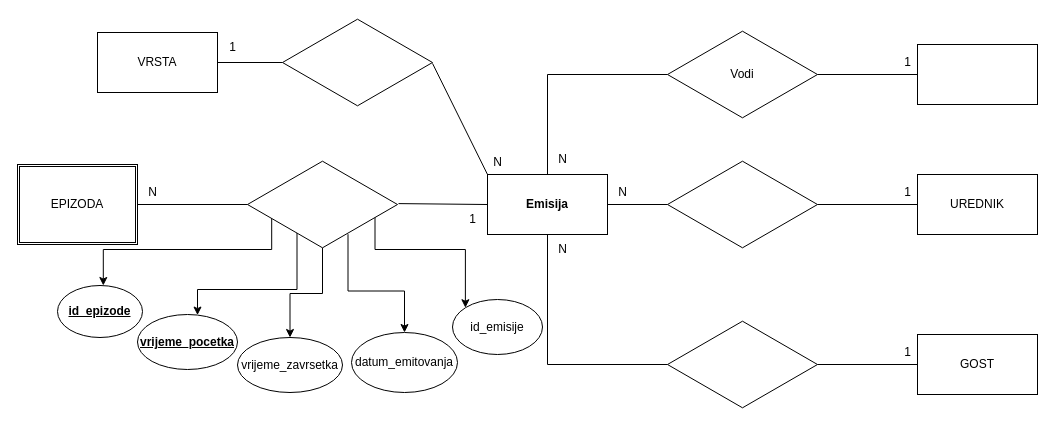
This 1055x427 diagram has some shape labels left out. The shapes that lost their labels are listed below. From the top down, each one's centre as x and y in pixels, then its label:
point (357, 62): Pripada
point (977, 74): VODITELJ
point (322, 204): Se emituje
point (742, 204): Uređuje
point (742, 364): Gostuje
